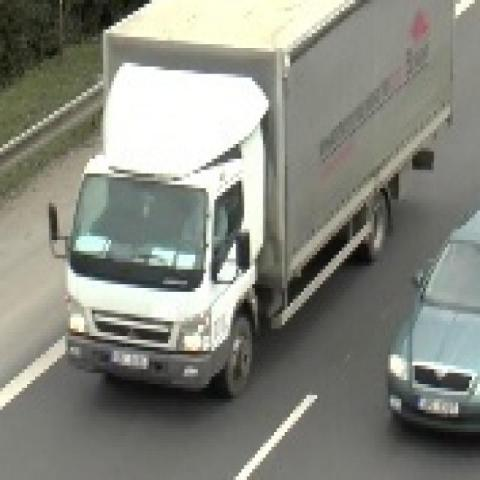truck: (51, 0, 456, 395)
